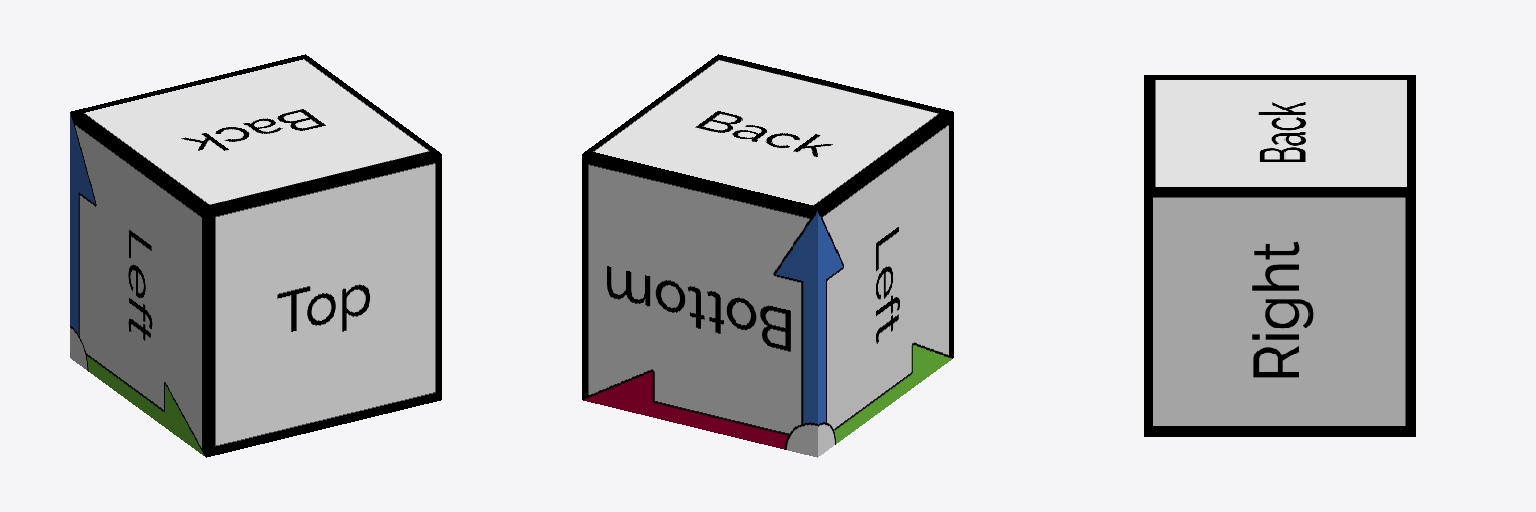
3 views of the same model, side by side, from view 1: azimuth 30°, elevation 25°; view 2: azimuth 150°, elevation 25°; view 3: azimuth 270°, elevation 25° (orthographic).
Visible parts, largest first — view 1: Cube; view 2: Cube; view 3: Cube.
Boxes of the visible parts, box(x1,y1,x2,y2) form: Cube: box(70, 54, 441, 457); Cube: box(582, 54, 953, 457); Cube: box(1144, 75, 1415, 436).
Bounding box in the file's own units: 2 × 2 × 2.
Materials: 1 (1 with a texture image).